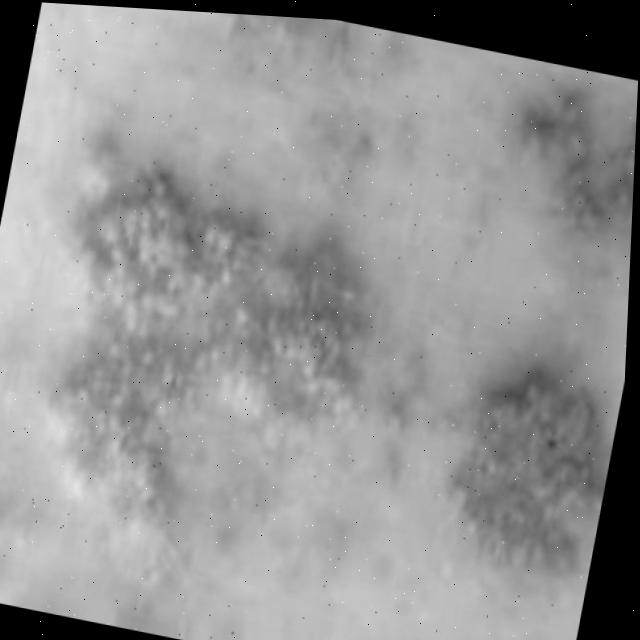Shingles: (5, 2, 640, 632)
